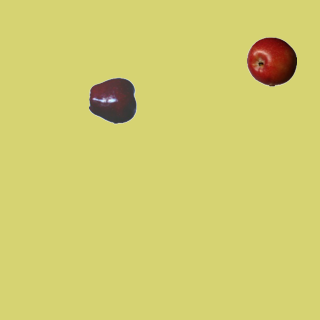Apple Braeburn: (246, 36, 296, 86)
Apple Red Delicious: (88, 75, 138, 125)
